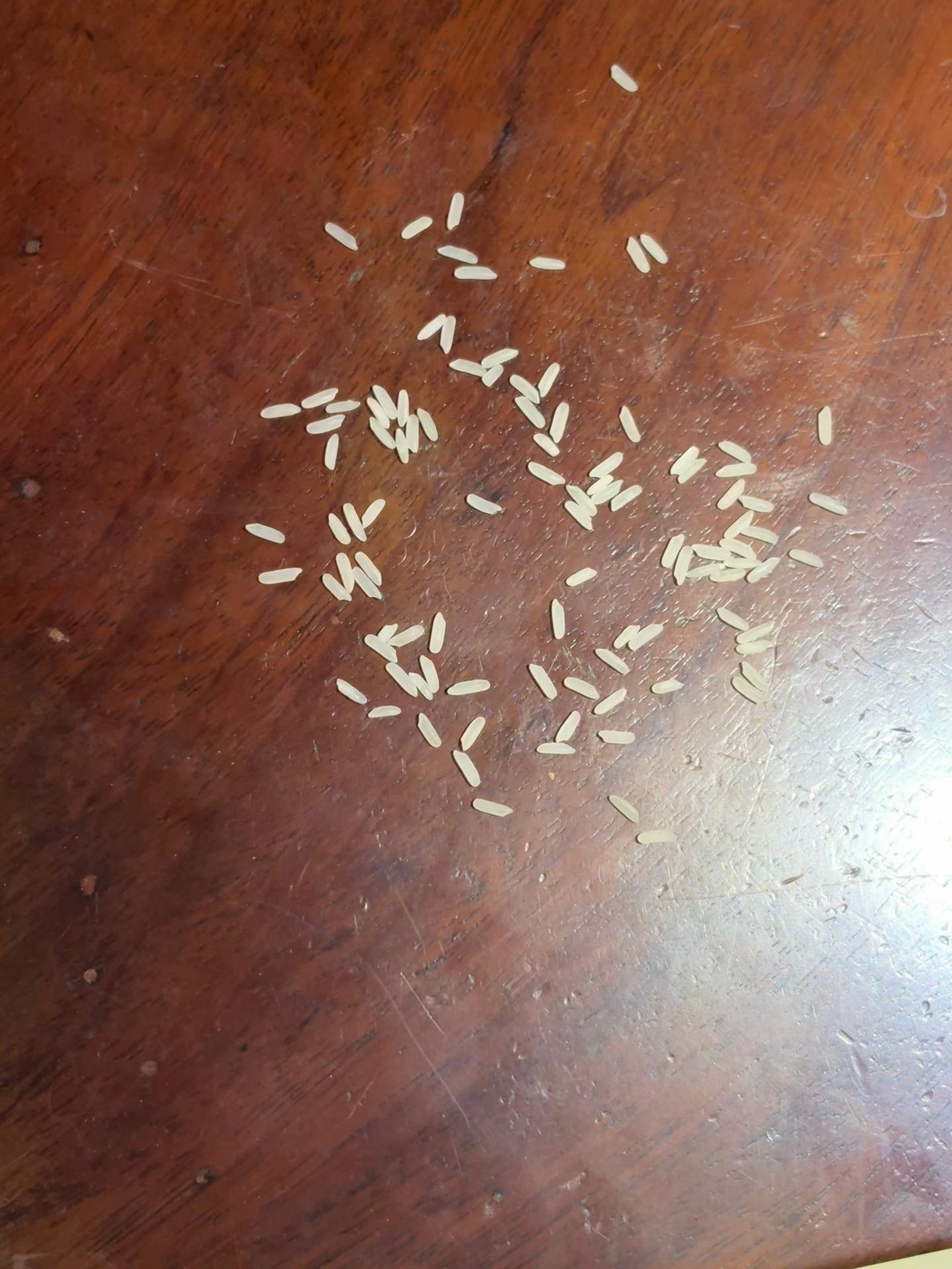Rice-th-y-nh: (452, 749, 481, 787), (386, 662, 417, 697), (529, 664, 558, 699), (732, 676, 767, 704), (342, 503, 367, 542), (515, 396, 545, 428), (567, 485, 597, 516), (460, 716, 486, 751), (353, 568, 382, 599), (609, 794, 640, 823), (325, 223, 358, 250), (365, 635, 398, 662), (595, 648, 629, 674), (356, 552, 382, 586), (629, 624, 664, 649), (373, 385, 398, 420), (510, 375, 540, 404), (809, 493, 848, 515), (417, 713, 442, 747), (670, 446, 699, 475), (718, 480, 746, 510), (626, 238, 650, 273), (640, 234, 668, 264), (528, 462, 564, 485), (594, 689, 627, 714), (673, 546, 694, 585), (736, 622, 775, 643), (724, 511, 753, 539), (610, 64, 638, 93), (741, 662, 769, 691), (369, 418, 396, 448), (611, 485, 642, 511), (556, 711, 581, 743), (748, 558, 780, 583), (590, 453, 623, 477), (564, 677, 600, 699), (417, 314, 446, 341), (322, 574, 351, 601), (246, 523, 285, 543), (550, 403, 570, 442), (439, 244, 478, 264), (337, 679, 368, 704), (307, 414, 345, 434), (388, 625, 424, 646), (720, 538, 756, 559), (448, 679, 490, 697), (566, 501, 592, 530), (538, 363, 560, 397), (591, 481, 622, 505), (473, 798, 512, 817), (661, 535, 684, 567), (619, 407, 640, 442), (302, 388, 337, 409), (719, 441, 752, 463), (429, 613, 447, 653), (328, 514, 351, 545), (420, 656, 439, 693), (417, 408, 438, 441), (717, 608, 748, 630), (401, 217, 432, 239), (678, 459, 706, 483), (409, 673, 433, 701), (367, 398, 390, 427), (450, 359, 487, 377), (550, 599, 567, 638), (259, 568, 300, 584), (742, 526, 778, 544), (336, 554, 354, 590), (467, 495, 501, 514), (362, 499, 385, 527), (637, 829, 677, 845), (481, 349, 518, 366), (717, 462, 756, 478), (693, 545, 732, 561), (447, 193, 464, 229), (537, 740, 575, 756), (614, 625, 640, 648), (790, 549, 823, 567), (440, 316, 456, 353), (817, 407, 833, 444), (687, 564, 724, 580), (455, 266, 497, 280), (740, 496, 774, 513), (534, 434, 559, 456), (261, 404, 300, 418), (394, 429, 410, 463), (566, 568, 596, 586), (599, 730, 635, 745), (405, 415, 420, 451), (325, 434, 340, 469), (395, 390, 410, 425), (587, 476, 613, 495), (710, 569, 746, 582), (652, 679, 683, 694), (530, 257, 565, 270), (326, 400, 360, 413), (483, 365, 504, 386), (736, 642, 767, 655), (724, 558, 759, 569), (368, 706, 400, 718), (377, 625, 397, 642)
